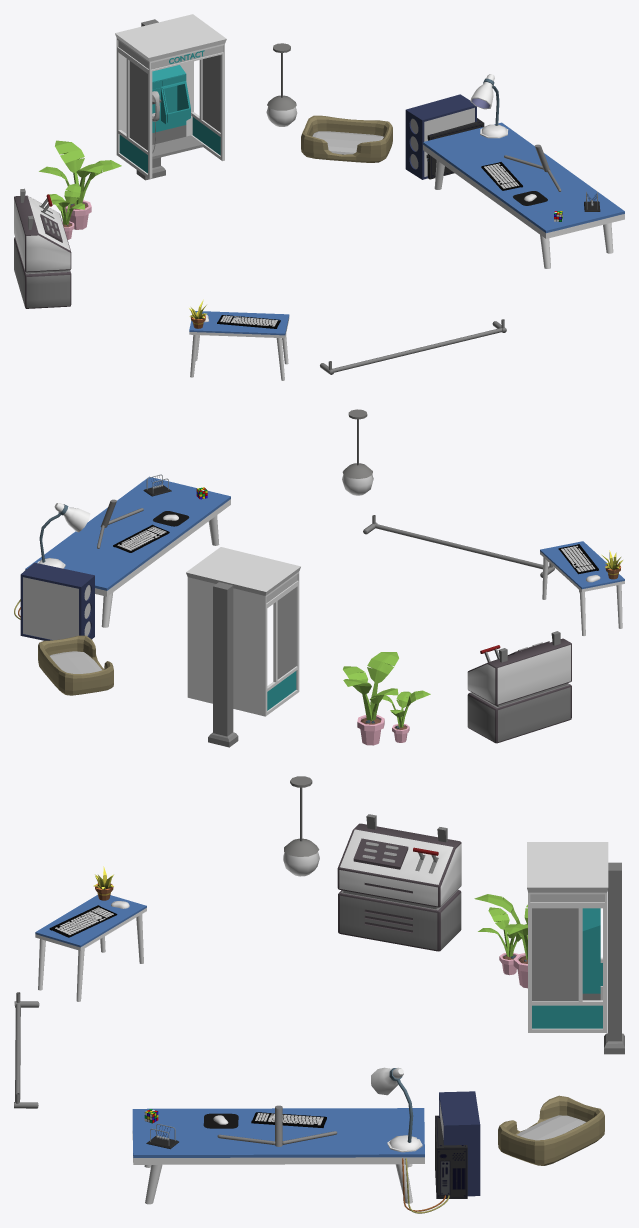
Rendered from Scenario.glb.
3 views of the same model, one above another, from view 1: azimuth 30°, elevation 25°; view 2: azimuth 150°, elevation 25°; view 3: azimuth 270°, elevation 25° (orthographic). The views are drawn at different scales.
Parts seen in each view (by area): view 1: MesaAbout, SkillsBase, Cube.008, Cube.010, DogBed_Cube.001, PhoneBox, PcAbout.001, Phone, plant_01_Cube.001, MesaProjects, Cube.006, Light_Ceiling2 (+6 smaller); view 2: MesaAbout, SkillsBase, PhoneBox, PcAbout.001, Cube.008, Cube.012, DogBed_Cube.001, plant_01_Cube.001, Cube.010, MesaProjects, Light_Ceiling2, Cube.006 (+6 smaller); view 3: MesaAbout, SkillsBase, Cube.010, Cube.008, DogBed_Cube.001, Cube.012, PcAbout.001, PhoneBox, MesaProjects, System_unit.001, Phone, Light_Ceiling2 (+8 smaller).
Part boxes in pixels (x1,y1,x2,y2): MesaAbout: [423, 122, 624, 238]; SkillsBase: [14, 195, 71, 308]; Cube.008: [115, 14, 226, 71]; Cube.010: [119, 55, 220, 173]; DogBed_Cube.001: [301, 115, 392, 162]; PhoneBox: [116, 48, 224, 178]; PcAbout.001: [405, 94, 476, 179]; Phone: [152, 65, 190, 144]; plant_01_Cube.001: [39, 140, 121, 229]; MesaProjects: [189, 311, 289, 338]; Cube.006: [320, 319, 506, 374]; Light_Ceiling2: [266, 43, 297, 126]; MesaAbout: [25, 476, 230, 596]; SkillsBase: [467, 638, 571, 743]; PhoneBox: [187, 582, 299, 716]; PcAbout.001: [20, 562, 94, 640]; Cube.008: [186, 547, 300, 606]; Cube.012: [208, 582, 238, 747]; DogBed_Cube.001: [38, 635, 113, 695]; plant_01_Cube.001: [343, 652, 398, 745]; Cube.010: [267, 587, 296, 710]; MesaProjects: [540, 541, 624, 592]; Light_Ceiling2: [342, 409, 373, 495]; Cube.006: [363, 515, 554, 577]; MesaAbout: [132, 1108, 424, 1164]; SkillsBase: [337, 823, 461, 951]; Cube.010: [532, 908, 602, 1028]; Cube.008: [527, 842, 608, 904]; DogBed_Cube.001: [498, 1095, 604, 1165]; Cube.012: [604, 862, 624, 1054]; PcAbout.001: [439, 1091, 480, 1196]; PhoneBox: [528, 904, 606, 1032]; MesaProjects: [35, 895, 146, 950]; System_unit.001: [435, 1115, 467, 1198]; Phone: [582, 908, 600, 1000]; Light_Ceiling2: [283, 776, 319, 876].
Bounding box in the file's own units: 18.14 × 7.61 × 15.5.
49 materials, 2 textured.
